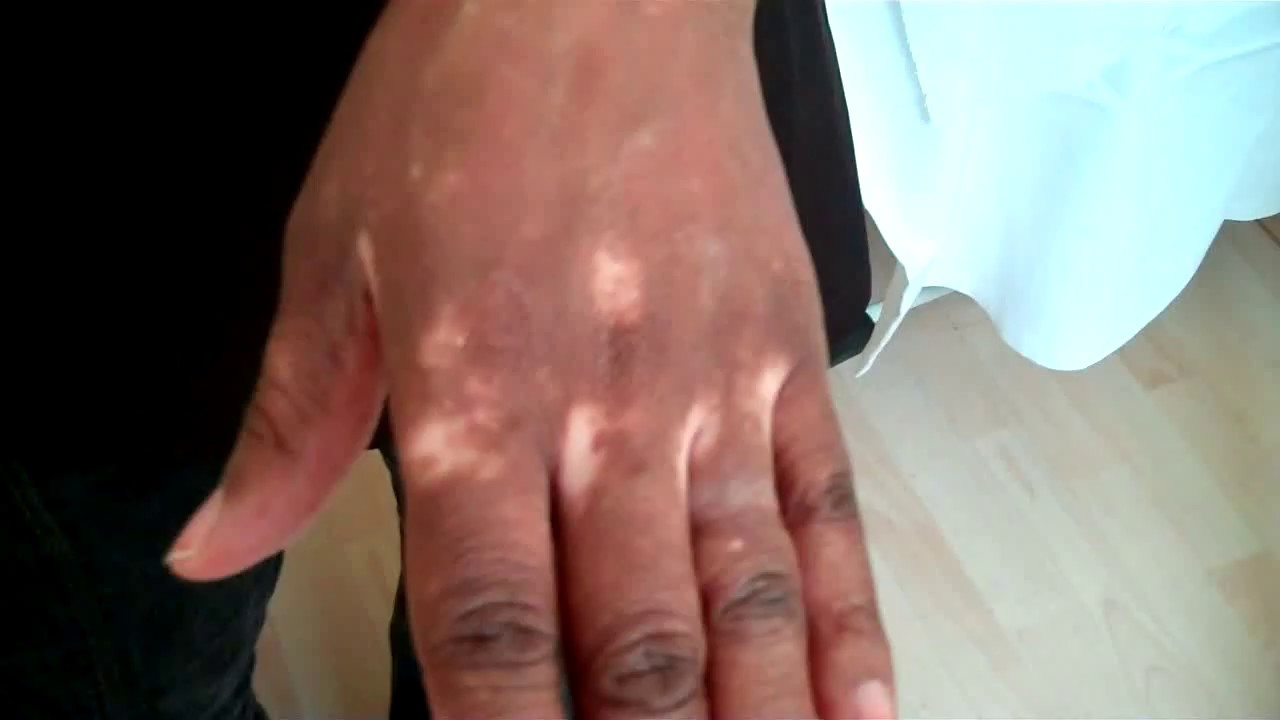vitiligo: (354, 210, 796, 575)
